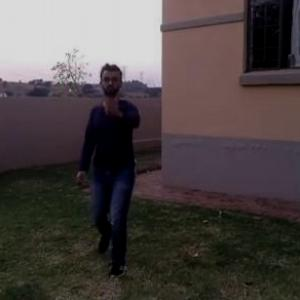takeoff-hand: (102, 88, 124, 120)
